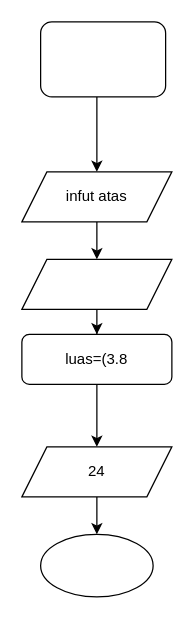
Image size: 194x619. Some labels were removed from this diagram. Here are the shapes that lost their labels. From the top down, the centre of each, then its label:
(102,59): setar
(96,283): infut tinggi
